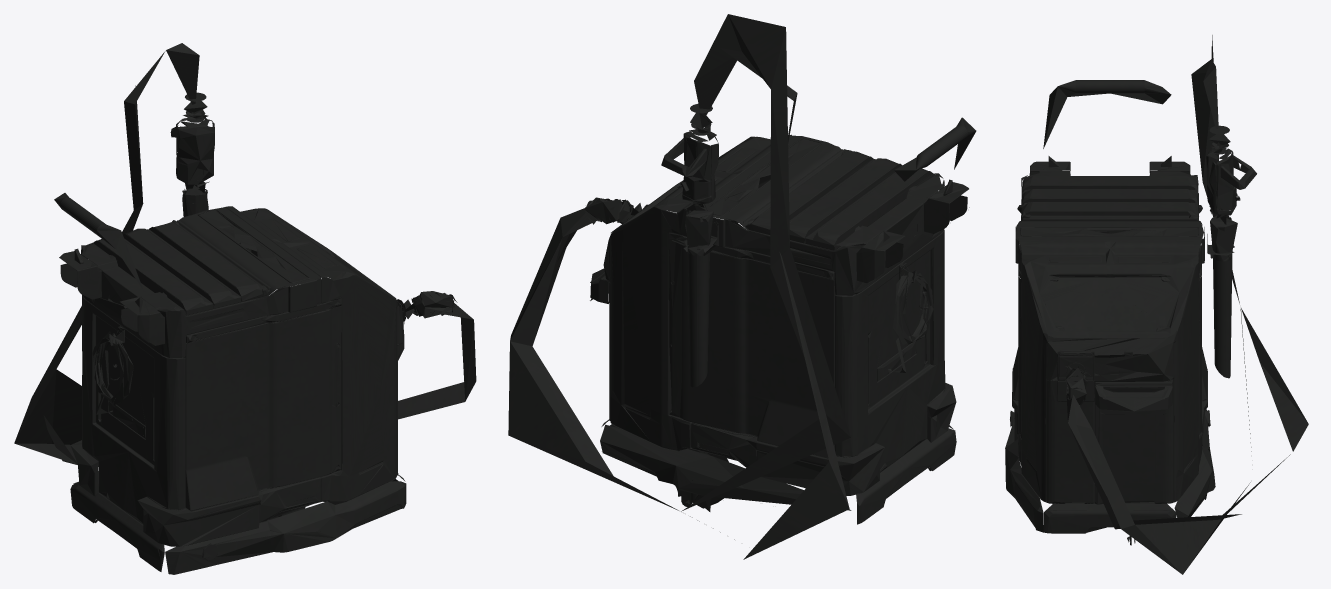
File: serviceTool_vacuum_cleaner_b01.glb
The picture shows the model from 3 angles, left to right: view 1: azimuth 30°, elevation 25°; view 2: azimuth 150°, elevation 25°; view 3: azimuth 270°, elevation 25°; orthographic projection. The views are drawn at different scales.
Parts seen in each view (by area): view 1: geometry_0; view 2: geometry_0; view 3: geometry_0.
Part boxes in pixels (left/top/right/bottom): geometry_0: left=14, top=43, right=476, bottom=574; geometry_0: left=508, top=14, right=976, bottom=559; geometry_0: left=1005, top=35, right=1308, bottom=574.
Size of the model in its own units: 0.3531 by 0.42 by 0.2475.
1 material, 1 textured.
